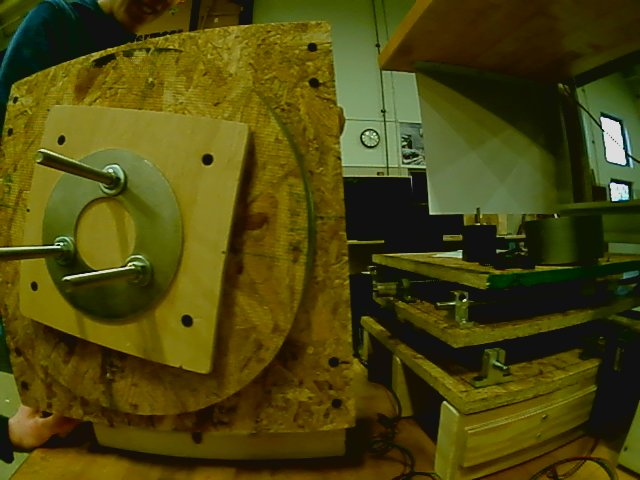bolt: (121, 252, 156, 291), (95, 161, 130, 198), (50, 233, 77, 271)
